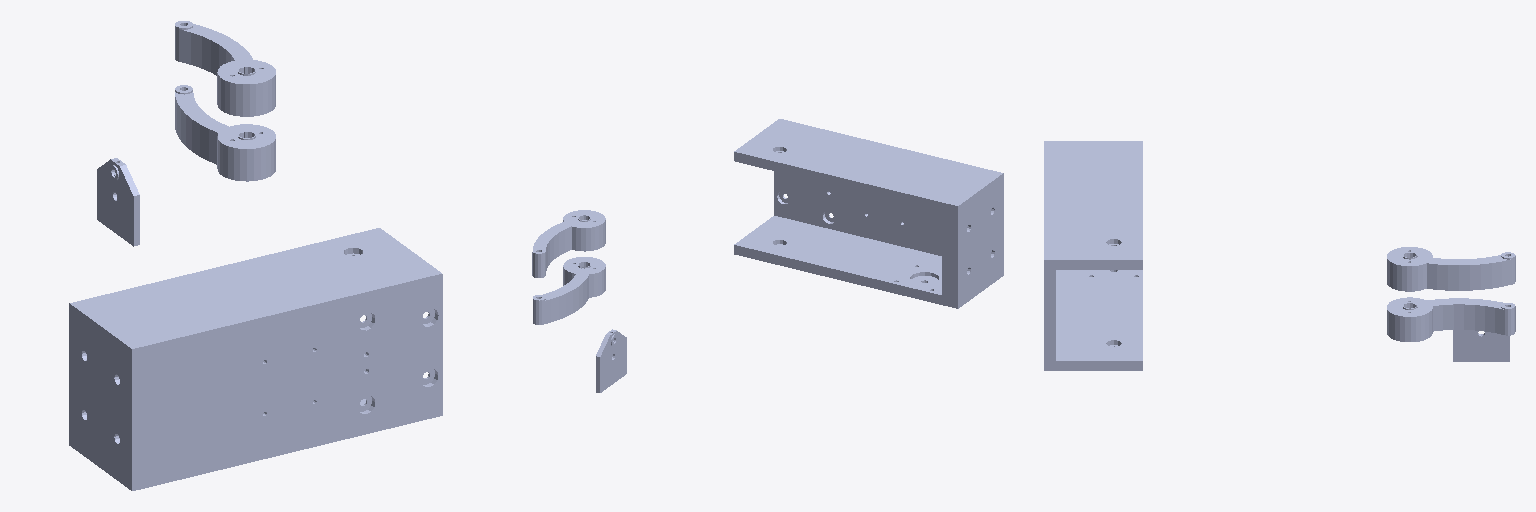
URDF robot description (gripper26):
<robot
  name="gripper26">
  <link
    name="base_link">
    <inertial>
      <origin
        xyz="0.015112 0.077629 0.0010135"
        rpy="0 0 0" />
      <mass
        value="0.31982" />
      <inertia
        ixx="0.0017601"
        ixy="-0.00015381"
        ixz="1.7004E-05"
        iyy="0.00037703"
        iyz="1.7314E-05"
        izz="0.0019922" />
    </inertial>
    <visual>
      <origin
        xyz="0 0 0"
        rpy="0 0 0" />
      <geometry>
        <mesh
          filename="base_link.stl" />
      </geometry>
      <material
        name="">
        <color
          rgba="0.79216 0.81961 0.93333 1" />
      </material>
    </visual>
    <collision>
      <origin
        xyz="0 0 0"
        rpy="0 0 0" />
      <geometry>
        <mesh
          filename="base_link.stl" />
      </geometry>
    </collision>
  </link>
  <link
    name="left_link">
    <inertial>
      <origin
        xyz="-0.0070482 -0.0035257 0.023153"
        rpy="0 0 0" />
      <mass
        value="0.0090967" />
      <inertia
        ixx="6.4063E-06"
        ixy="-7.8627E-08"
        ixz="5.1638E-07"
        iyy="6.1379E-06"
        iyz="2.8117E-07"
        izz="5.1173E-07" />
    </inertial>
    <visual>
      <origin
        xyz="0 0 0"
        rpy="0 0 0" />
      <geometry>
        <mesh
          filename="left_link.stl" />
      </geometry>
      <material
        name="">
        <color
          rgba="0.79216 0.81961 0.93333 1" />
      </material>
    </visual>
    <collision>
      <origin
        xyz="0 0 0"
        rpy="0 0 0" />
      <geometry>
        <mesh
          filename="left_link.stl" />
      </geometry>
    </collision>
  </link>
  <joint
    name="left_joint"
    type="revolute">
    <origin
      xyz="0.049802 0.20671 0.019295"
      rpy="-3.5788E-32 1.867E-16 -1.9168E-16" />
    <parent
      link="base_link" />
    <child
      link="left_link" />
    <axis
      xyz="1 0 0" />
    <limit
      effort="0"
      velocity="0" />
  </joint>
  <link
    name="left_gripper">
    <inertial>
      <origin
        xyz="-0.0184 0.061608 -0.015873"
        rpy="0 0 0" />
      <mass
        value="0.037686" />
      <inertia
        ixx="4.6539E-05"
        ixy="3.3943E-21"
        ixz="-1.019E-21"
        iyy="5.753E-06"
        iyz="1.1965E-05"
        izz="4.3298E-05" />
    </inertial>
    <visual>
      <origin
        xyz="0 0 0"
        rpy="0 0 0" />
      <geometry>
        <mesh
          filename="left_gripper.stl" />
      </geometry>
      <material
        name="">
        <color
          rgba="0.79608 0.82353 0.93725 1" />
      </material>
    </visual>
    <collision>
      <origin
        xyz="0 0 0"
        rpy="0 0 0" />
      <geometry>
        <mesh
          filename="left_gripper.stl" />
      </geometry>
    </collision>
  </link>
  <joint
    name="left_gripper_joint"
    type="revolute">
    <origin
      xyz="-0.006 0.0034563 0.071917"
      rpy="0 0 0" />
    <parent
      link="left_link" />
    <child
      link="left_gripper" />
    <axis
      xyz="1 0 0" />
    <limit
      effort="0"
      velocity="0" />
  </joint>
  <link
    name="right_link">
    <inertial>
      <origin
        xyz="0.0070468 -0.0030088 0.023218"
        rpy="0 0 0" />
      <mass
        value="0.0090916" />
      <inertia
        ixx="6.403E-06"
        ixy="6.712E-08"
        ixz="-5.1783E-07"
        iyy="6.1444E-06"
        iyz="1.5602E-07"
        izz="5.0178E-07" />
    </inertial>
    <visual>
      <origin
        xyz="0 0 0"
        rpy="0 0 0" />
      <geometry>
        <mesh
          filename="right_link.stl" />
      </geometry>
      <material
        name="">
        <color
          rgba="0.79216 0.81961 0.93333 1" />
      </material>
    </visual>
    <collision>
      <origin
        xyz="0 0 0"
        rpy="0 0 0" />
      <geometry>
        <mesh
          filename="right_link.stl" />
      </geometry>
    </collision>
  </link>
  <joint
    name="right_joint"
    type="revolute">
    <origin
      xyz="0.049802 0.20671 -0.019295"
      rpy="-3.1416 1.4051E-15 -3.1416" />
    <parent
      link="base_link" />
    <child
      link="right_link" />
    <axis
      xyz="-1 0 0" />
    <limit
      effort="0"
      velocity="0" />
  </joint>
  <link
    name="right_gripper">
    <inertial>
      <origin
        xyz="0.0184 0.061604 -0.015891"
        rpy="0 0 0" />
      <mass
        value="0.037686" />
      <inertia
        ixx="4.6539E-05"
        ixy="2.5361E-20"
        ixz="-7.1422E-21"
        iyy="5.76E-06"
        iyz="1.1976E-05"
        izz="4.3291E-05" />
    </inertial>
    <visual>
      <origin
        xyz="0 0 0"
        rpy="0 0 0" />
      <geometry>
        <mesh
          filename="right_gripper.stl" />
      </geometry>
      <material
        name="">
        <color
          rgba="0.79608 0.82353 0.93725 1" />
      </material>
    </visual>
    <collision>
      <origin
        xyz="0 0 0"
        rpy="0 0 0" />
      <geometry>
        <mesh
          filename="right_gripper.stl" />
      </geometry>
    </collision>
  </link>
  <joint
    name="right_gripper_joint"
    type="revolute">
    <origin
      xyz="0.006 0.0050527 0.071822"
      rpy="0 0 0" />
    <parent
      link="right_link" />
    <child
      link="right_gripper" />
    <axis
      xyz="-1 0 0" />
    <limit
      effort="0"
      velocity="0" />
  </joint>
  <link
    name="vacuum_link">
    <inertial>
      <origin
        xyz="-0.02696 0.0030993 0.023036"
        rpy="0 0 0" />
      <mass
        value="0.011542" />
      <inertia
        ixx="3.0955E-06"
        ixy="1.7485E-07"
        ixz="-6.8653E-08"
        iyy="4.012E-06"
        iyz="1.3175E-07"
        izz="2.6227E-06" />
    </inertial>
    <visual>
      <origin
        xyz="0 0 0"
        rpy="0 0 0" />
      <geometry>
        <mesh
          filename="vacuum_link.stl" />
      </geometry>
      <material
        name="">
        <color
          rgba="0.79216 0.81961 0.93333 1" />
      </material>
    </visual>
    <collision>
      <origin
        xyz="0 0 0"
        rpy="0 0 0" />
      <geometry>
        <mesh
          filename="vacuum_link.stl" />
      </geometry>
    </collision>
  </link>
  <joint
    name="vacuum_joint"
    type="revolute">
    <origin
      xyz="0 0.25619 -0.022"
      rpy="0 0 0" />
    <parent
      link="base_link" />
    <child
      link="vacuum_link" />
    <axis
      xyz="0 0 -1" />
    <limit
      effort="0"
      velocity="0" />
  </joint>
</robot>

--- Render facts (derived) ---
3 views of the same robot in one strip: view 1: azimuth 30°, elevation 25°; view 2: azimuth 150°, elevation 25°; view 3: azimuth 270°, elevation 25° (orthographic).
Robot: gripper26 — 6 links, 5 joints (5 revolute); root link base_link; default pose: all joints at 0.
Visible links, largest first — view 1: base_link, left_link, right_link, vacuum_link; view 2: base_link, right_link, left_link, vacuum_link; view 3: base_link, left_link, right_link, vacuum_link.
Boxes of the visible links, <box> form: base_link: <box>69,228,442,490</box>; left_link: <box>175,21,275,116</box>; right_link: <box>175,85,275,181</box>; vacuum_link: <box>97,158,139,246</box>; base_link: <box>734,119,1003,308</box>; right_link: <box>533,257,605,324</box>; left_link: <box>532,210,605,277</box>; vacuum_link: <box>596,329,626,392</box>; base_link: <box>1044,141,1142,370</box>; left_link: <box>1387,247,1515,291</box>; right_link: <box>1387,297,1515,341</box>; vacuum_link: <box>1453,330,1509,361</box>.
Bounding box of the posed robot: 0.2332 × 0.3251 × 0.1047 m (x, y, z).
Meshes: 6 distinct files referenced, 4 mesh visuals loaded (4 binary STL); not drawn: 2 (reference not matched to a file when rendering).